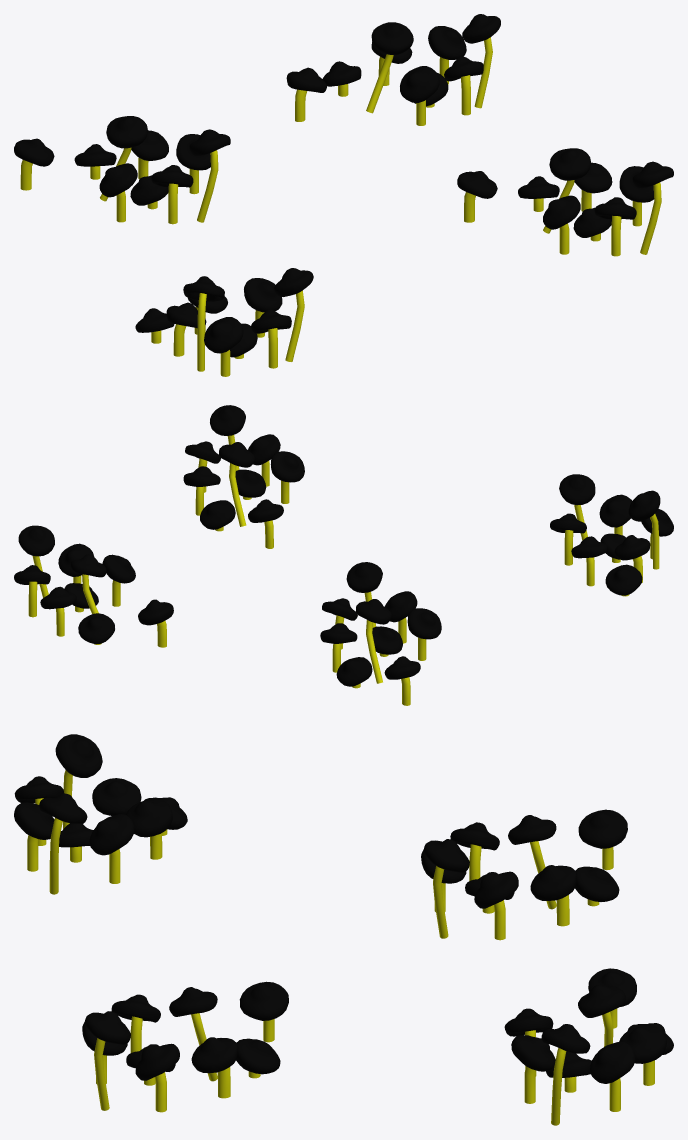
The model's file is Mushroom_AllGroups_lp.fbx.
3 views of the same model, one above another, from view 1: azimuth 30°, elevation 25°; view 2: azimuth 150°, elevation 25°; view 3: azimuth 270°, elevation 25° (orthographic). The views are drawn at different scales.
Visible parts, largest first — view 1: Patch3, Patch2, Patch4, Patch1; view 2: Patch2, Patch3, Patch4, Patch1; view 3: Patch1, Patch2, Patch3, Patch4.
Part boxes in pixels (x1,y1,x2,y2): Patch3: (457,148,673,256); Patch2: (14,116,230,224); Patch4: (286,14,500,125); Patch1: (135,268,313,376); Patch2: (320,562,441,705); Patch3: (183,405,304,548); Patch4: (14,525,173,647); Patch1: (550,474,673,596); Patch1: (14,734,187,894); Patch2: (421,809,627,940); Patch3: (82,981,288,1112); Patch4: (504,968,673,1125).
Bounding box in the file's own units: 2.72 × 0.4585 × 2.48.
